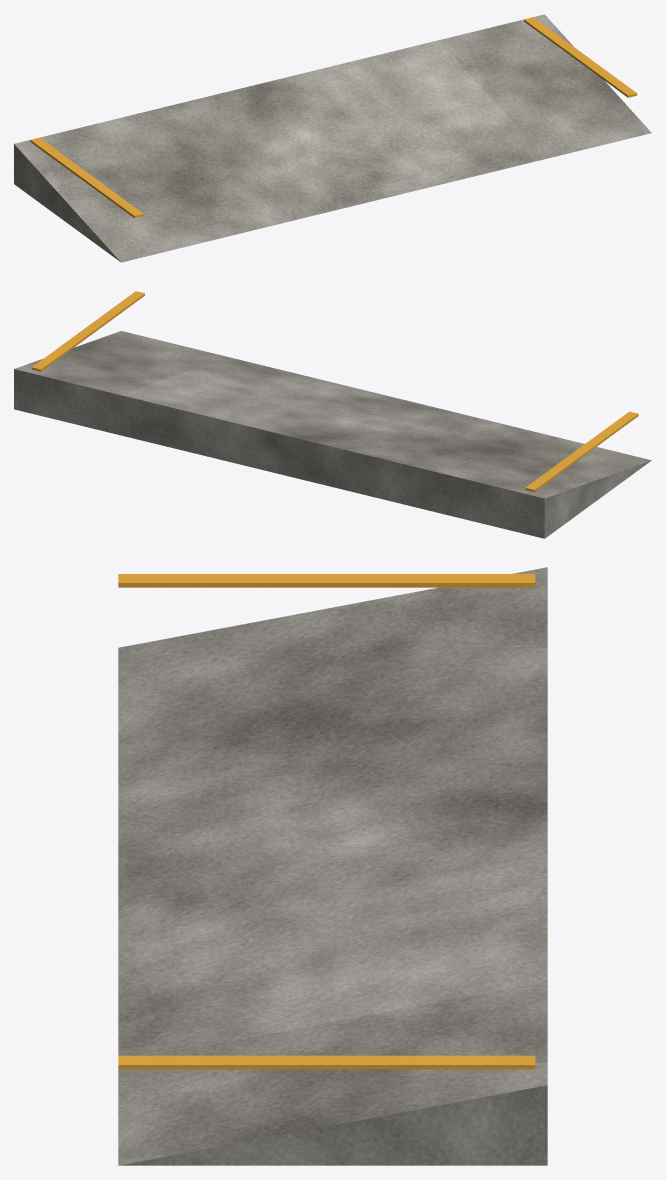
The model's file is CW24_08_Curb_Entry_Ramp_2m.glb.
3 views of the same model, one above another, from view 1: azimuth 30°, elevation 25°; view 2: azimuth 150°, elevation 25°; view 3: azimuth 270°, elevation 25° (orthographic). The views are drawn at different scales.
Visible parts, largest first — view 1: Curb_Entry_Ramp_2m__Vehicular_Curb_Cut_Slope, Curb_Entry_Ramp_2m__Ramp_Reflective_Guide; view 2: Curb_Entry_Ramp_2m__Vehicular_Curb_Cut_Slope, Curb_Entry_Ramp_2m__Ramp_Reflective_Guide; view 3: Curb_Entry_Ramp_2m__Vehicular_Curb_Cut_Slope, Curb_Entry_Ramp_2m__Ramp_Reflective_Guide.
Part boxes in pixels (x1,y1,x2,y2): Curb_Entry_Ramp_2m__Vehicular_Curb_Cut_Slope: (14, 14, 651, 262); Curb_Entry_Ramp_2m__Ramp_Reflective_Guide: (30, 17, 637, 218); Curb_Entry_Ramp_2m__Vehicular_Curb_Cut_Slope: (14, 331, 651, 538); Curb_Entry_Ramp_2m__Ramp_Reflective_Guide: (31, 291, 638, 492); Curb_Entry_Ramp_2m__Vehicular_Curb_Cut_Slope: (118, 567, 547, 1165); Curb_Entry_Ramp_2m__Ramp_Reflective_Guide: (118, 574, 535, 1069).
Bounding box in the file's own units: 2 × 0.156 × 0.7.
Materials: 2 (2 with a texture image).
